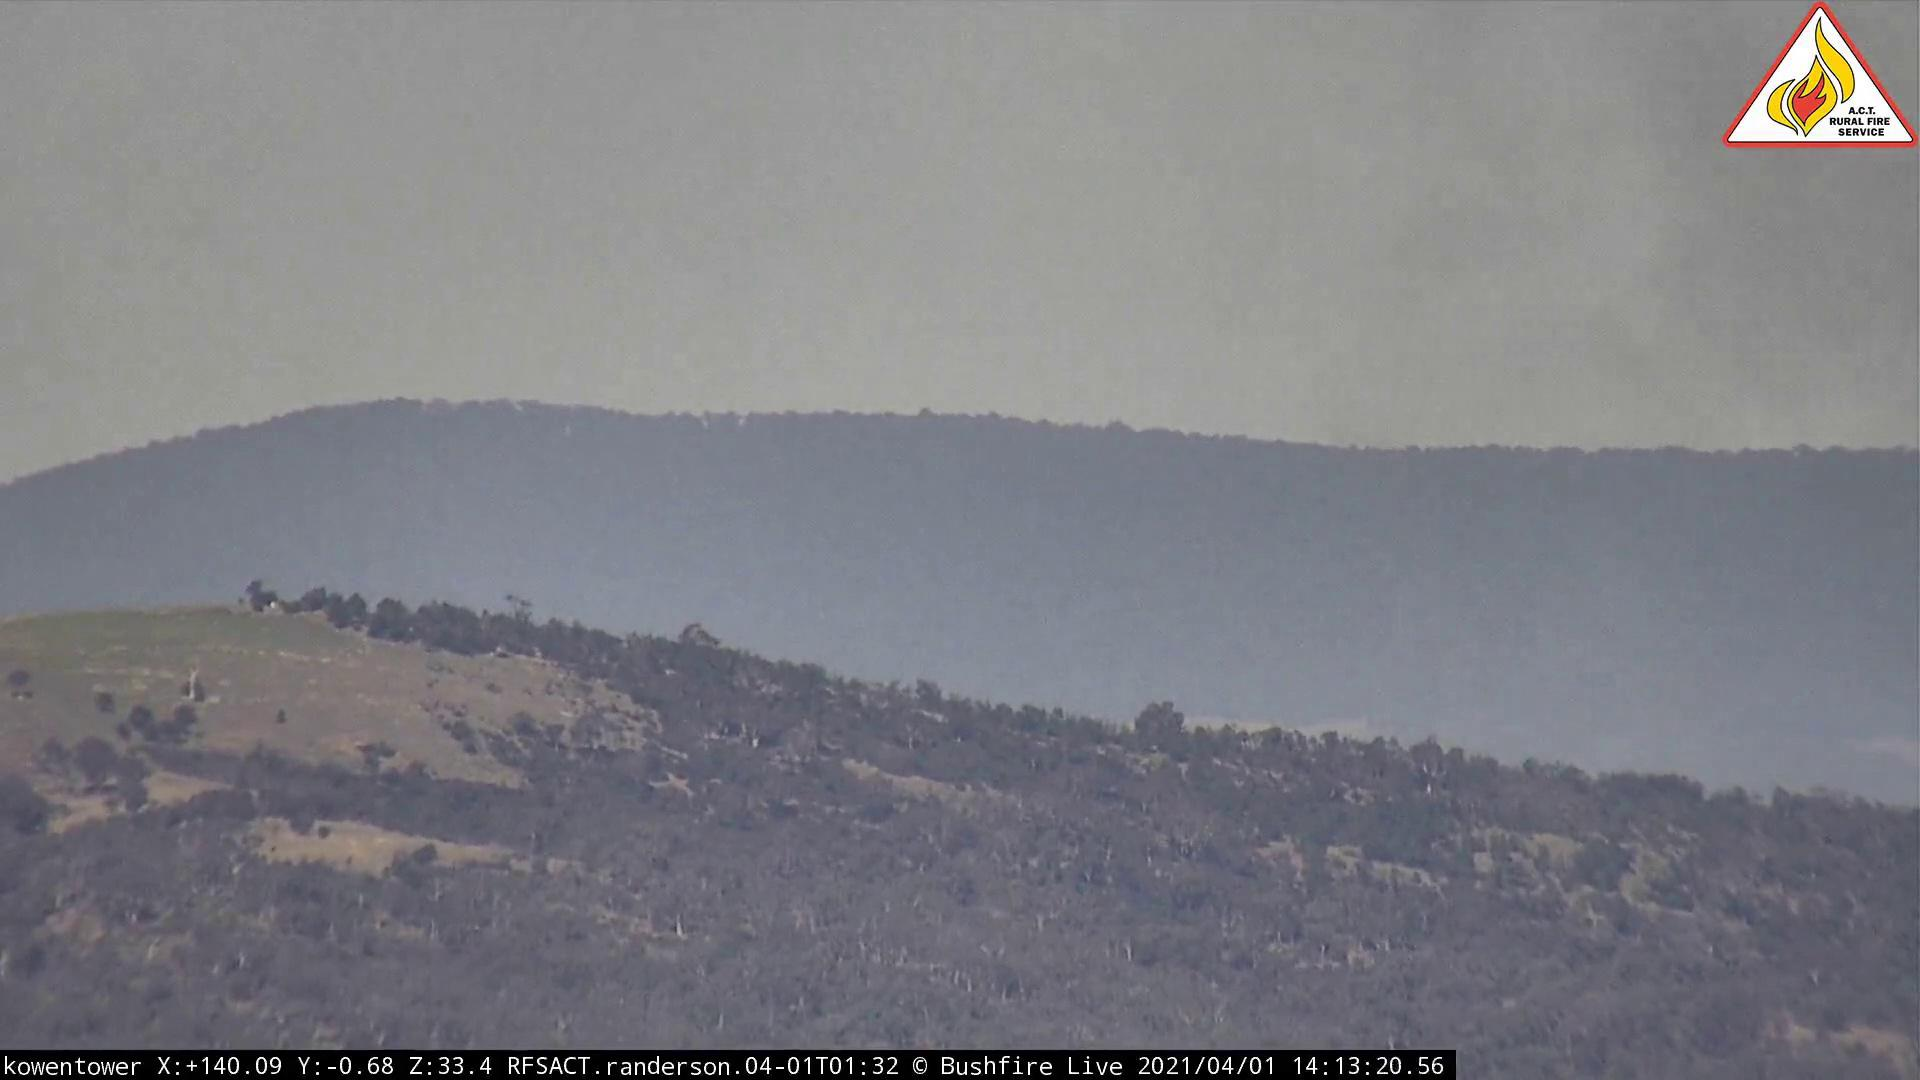instance_salient_object: (1443, 154, 1920, 878)
